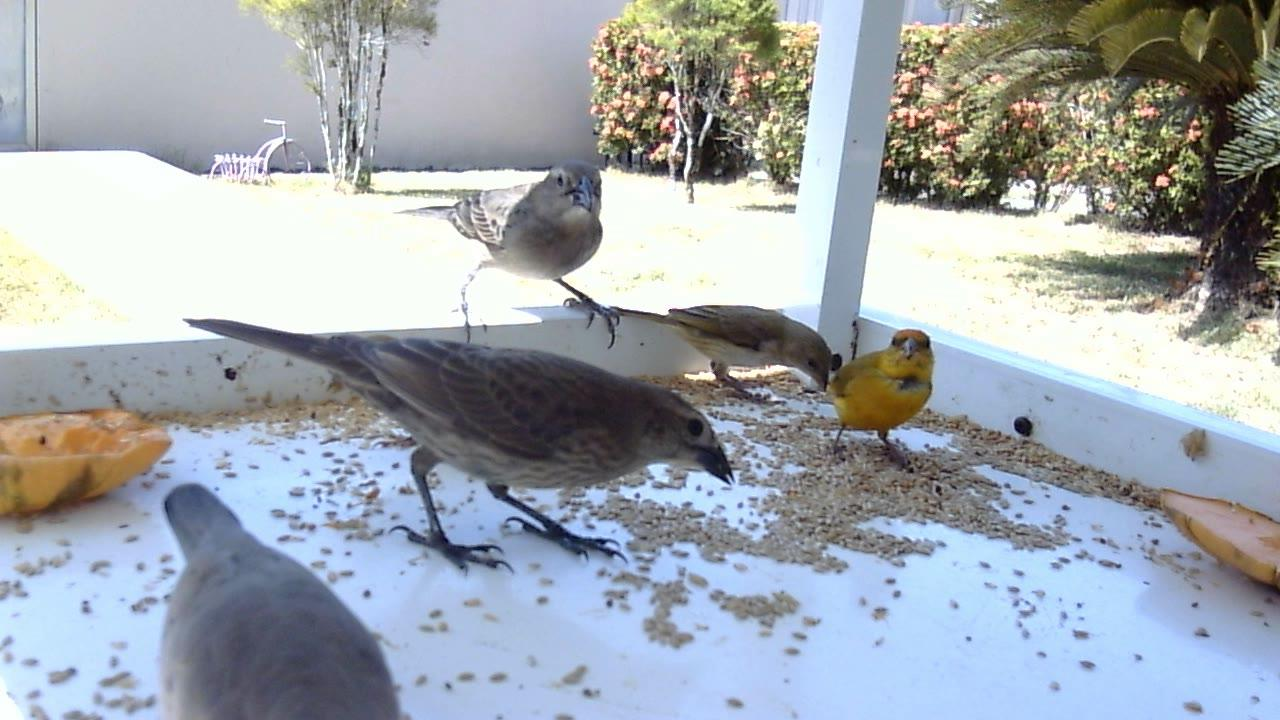canario_do_amazonas: (619, 304, 834, 401), (829, 328, 937, 464)
chupim: (179, 315, 739, 583), (390, 164, 625, 354)
rolinha: (155, 481, 402, 720)
